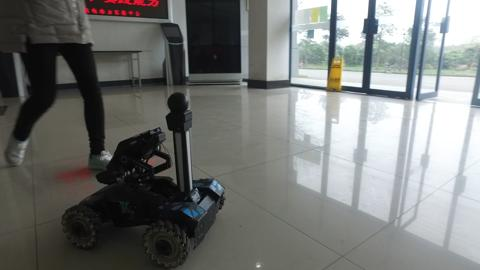chariot: (51, 85, 238, 267)
